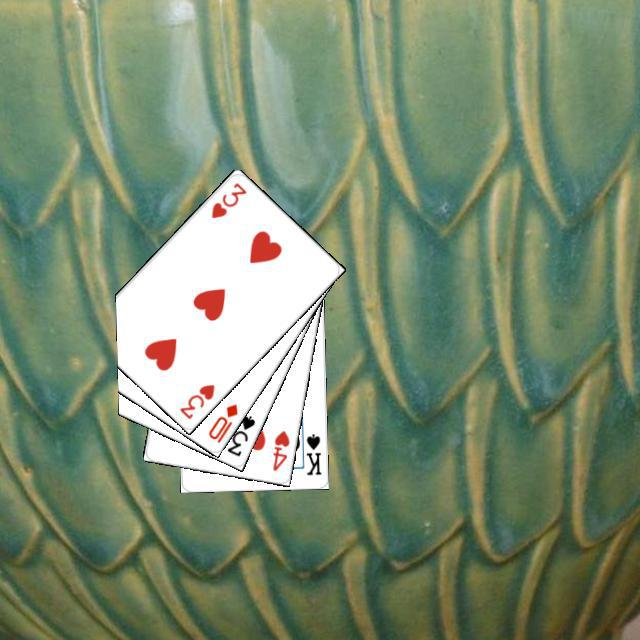10d: (203, 399, 239, 445)
3h: (206, 177, 248, 220), (174, 379, 216, 421)
3s: (222, 410, 257, 458)
4h: (268, 425, 291, 472)
Ks: (301, 429, 323, 477)
